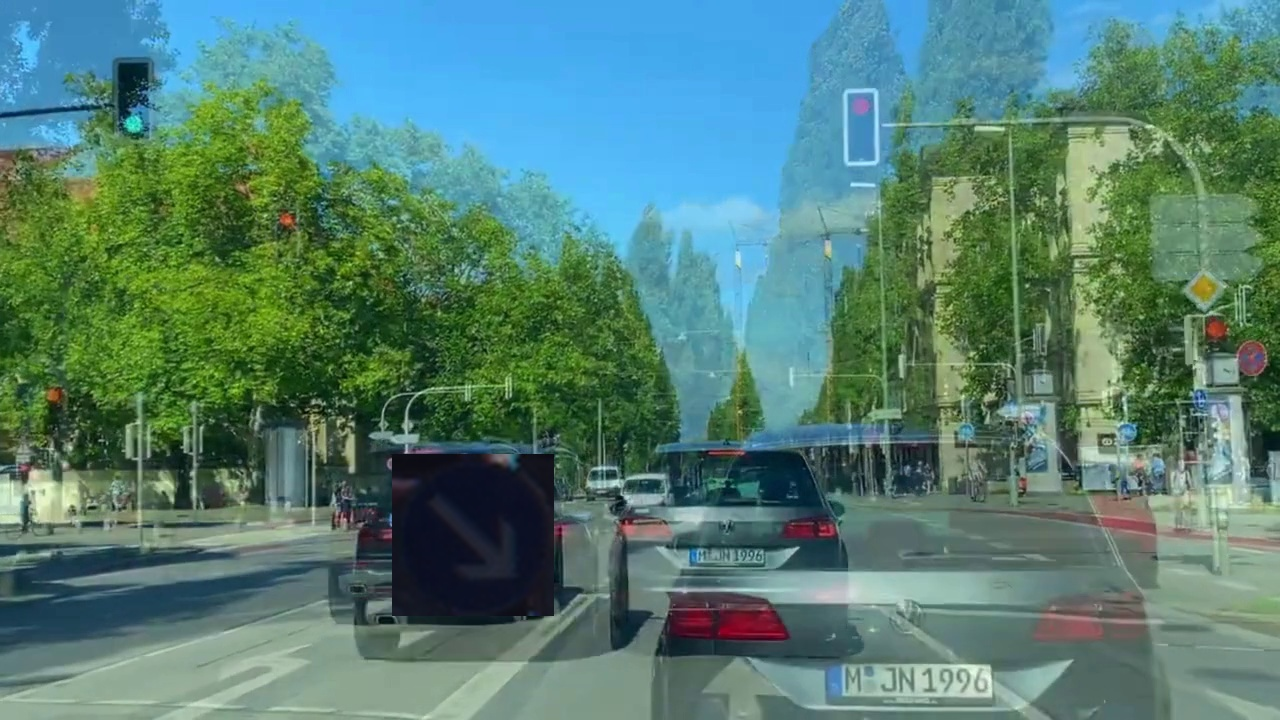Keep right: (392, 454, 554, 616)
